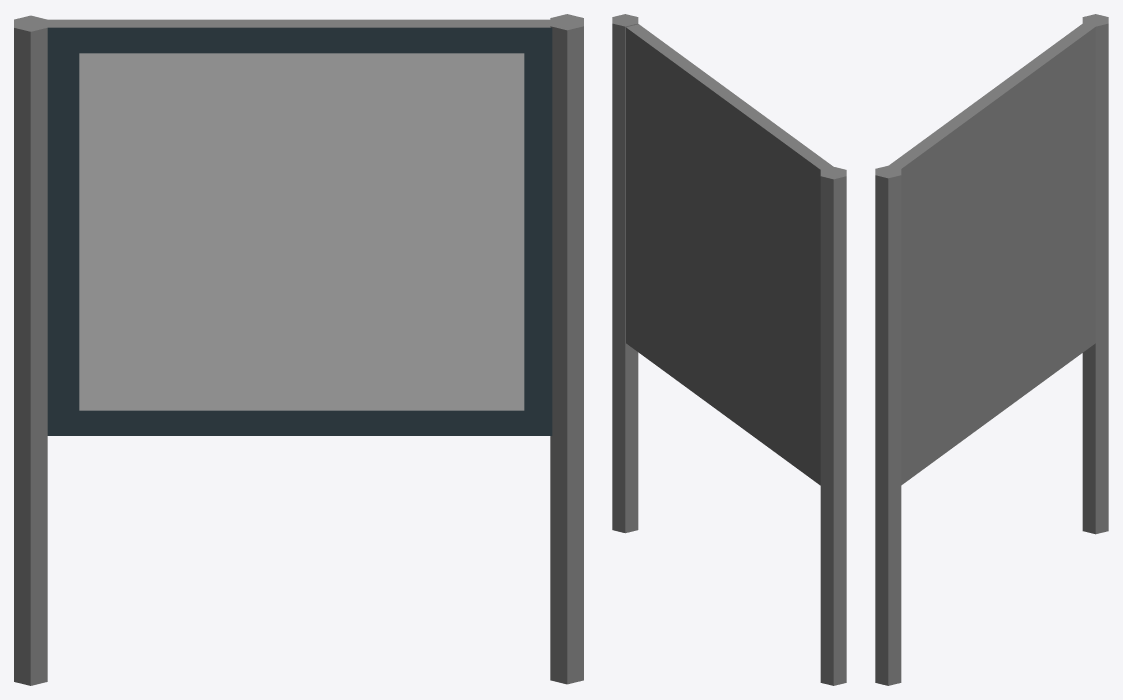
Rendered from billboard.gltf.
The picture shows the model from 3 angles, left to right: view 1: azimuth 30°, elevation 25°; view 2: azimuth 150°, elevation 25°; view 3: azimuth 270°, elevation 25°; orthographic projection. The views are drawn at different scales.
Visible parts, largest first — view 1: node_MeshObject-1813780928-PolyPaper22; view 2: node_MeshObject-1813780928-PolyPaper22; view 3: node_MeshObject-1813780928-PolyPaper22.
Part boxes in pixels (x1,y1,x2,y2): node_MeshObject-1813780928-PolyPaper22: (14, 14, 583, 685); node_MeshObject-1813780928-PolyPaper22: (612, 14, 846, 685); node_MeshObject-1813780928-PolyPaper22: (875, 14, 1108, 685).
Bounding box in the file's own units: 0.3907 × 0.5607 × 0.2333.
